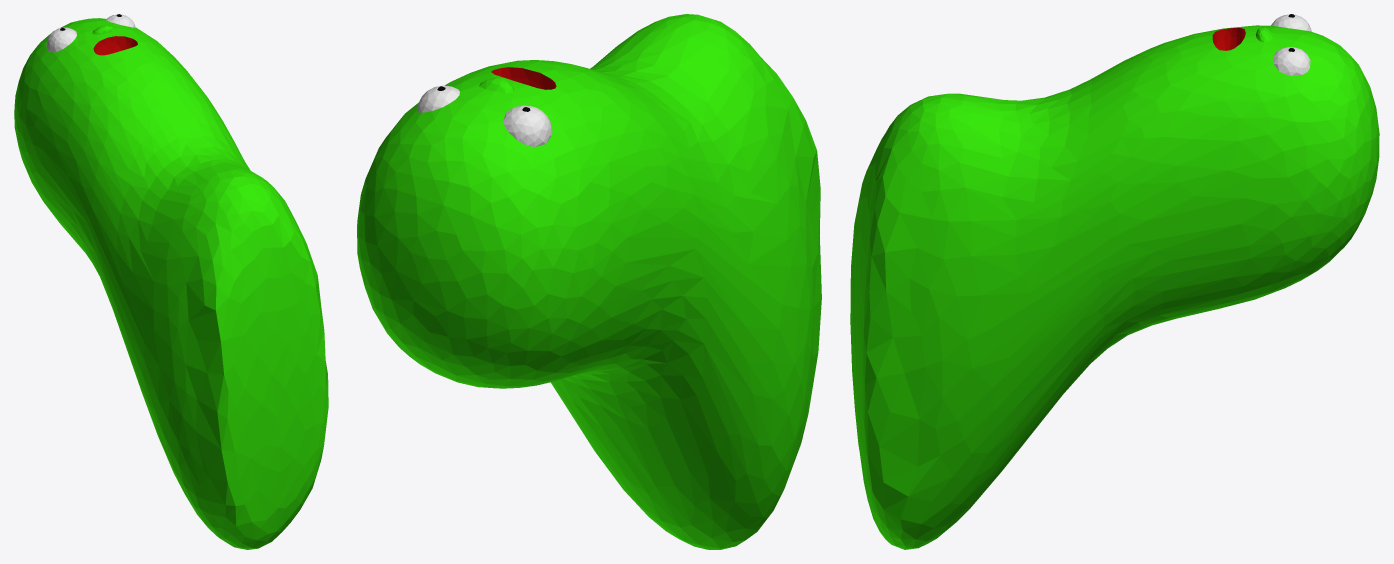
The model's file is scemo.fbx.
3 views of the same model, side by side, from view 1: azimuth 30°, elevation 25°; view 2: azimuth 150°, elevation 25°; view 3: azimuth 270°, elevation 25° (orthographic). The views are drawn at different scales.
Visible parts, largest first — view 1: Cube.003; view 2: Cube.003; view 3: Cube.003.
Boxes of the visible parts, x1,y1,x2,y2 form: Cube.003: (14,14,328,549); Cube.003: (357,14,821,549); Cube.003: (850,14,1379,549).
Bounding box in the file's own units: 115 × 300 × 279.
